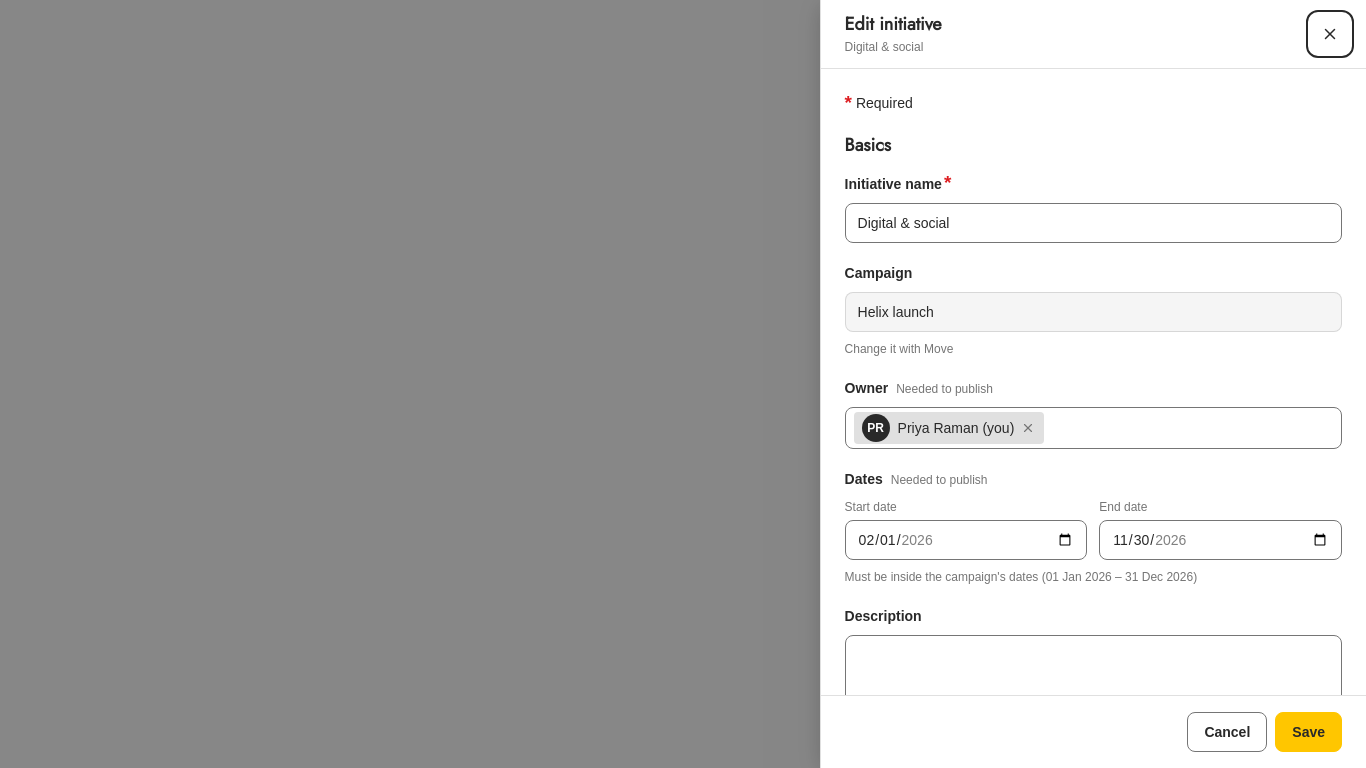
it: InitiativePanel (feature 005, US3) › shows the API’s R3 and FR-007 messages under the dates (FR-006, FR-007)
This screenshot has width=1366, height=768.
Check: the field labelled "Initiative name" is shown, box x1=845 y1=203 x2=1342 y2=243
Check: the text "Priya Raman (you)" is shown, box x1=898 y1=418 x2=1014 y2=438
Type "2026-04-01" into the date field labelled "Start date".
click(966, 540); type("2026-04-01")  # box x1=845 y1=520 x2=1087 y2=560
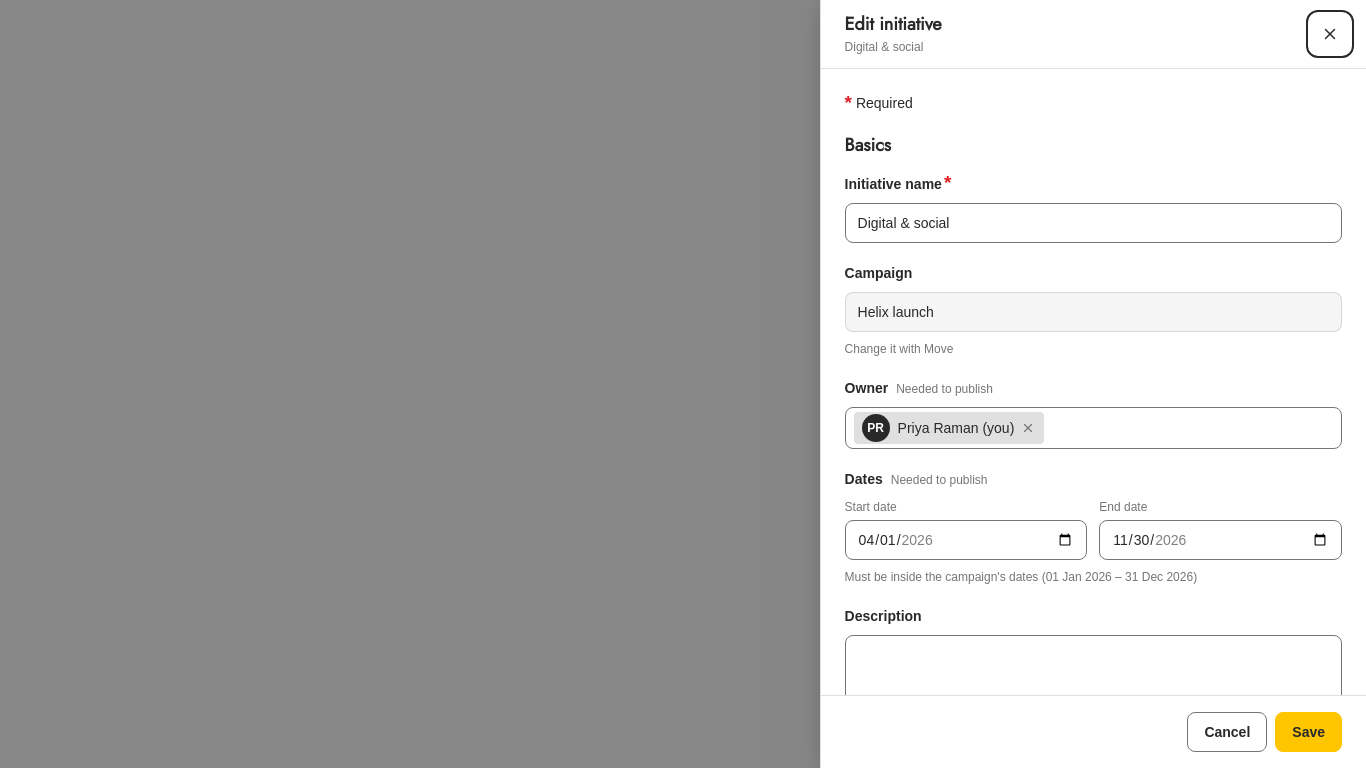
Click the button "Save".
click(1309, 732)  # box x1=1275 y1=712 x2=1342 y2=752
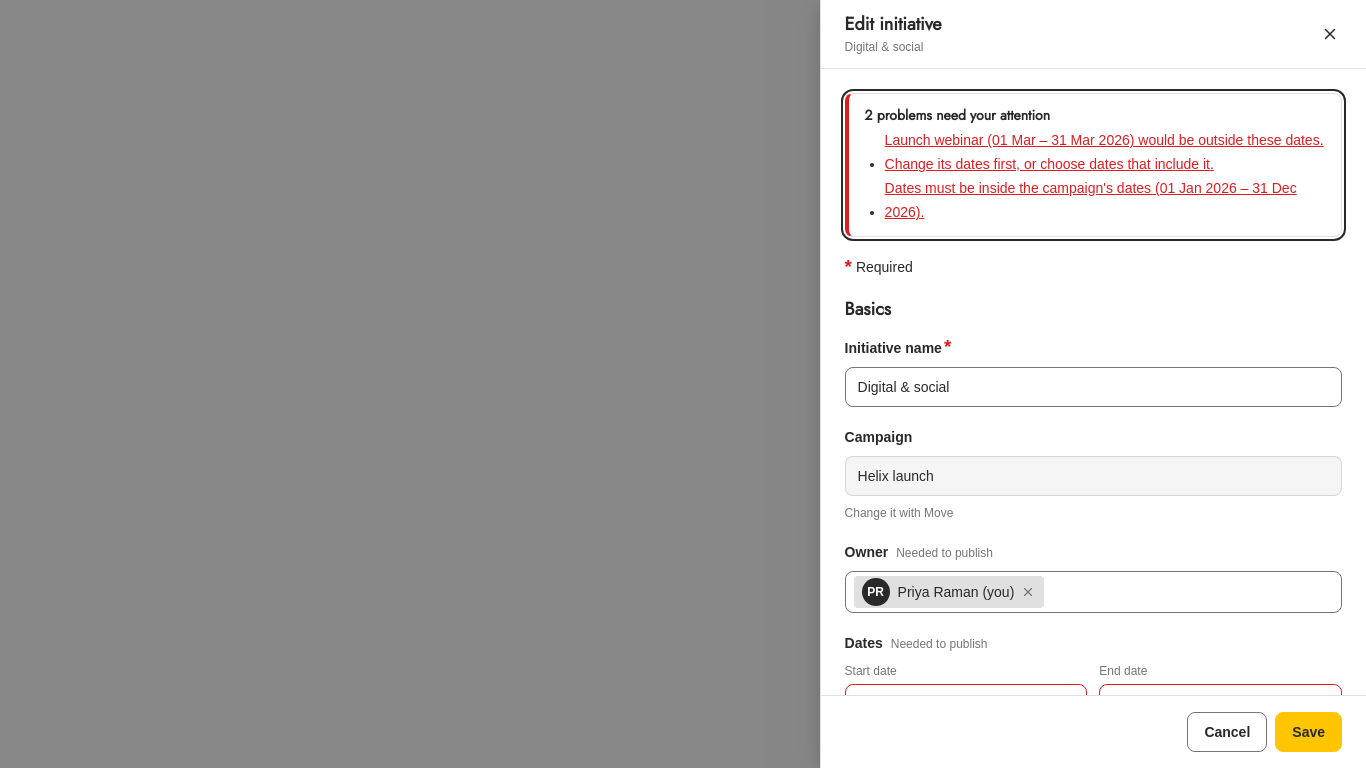
Check: the heading "2 problems need your attention" is shown, box x1=865 y1=105 x2=1050 y2=125
